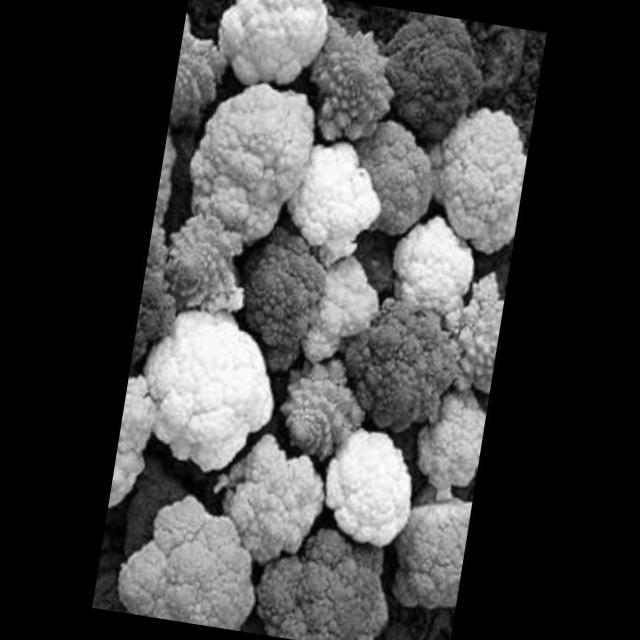sup lo: (126, 292, 295, 489), (174, 70, 324, 264), (109, 478, 275, 633), (198, 427, 340, 575), (254, 513, 417, 640), (340, 294, 474, 444), (412, 100, 534, 251), (374, 10, 498, 152), (297, 6, 415, 153), (347, 114, 462, 252), (278, 133, 392, 267), (320, 417, 432, 548), (259, 354, 378, 476), (205, 0, 343, 100), (378, 485, 474, 626), (162, 210, 274, 330), (428, 248, 512, 403), (389, 206, 494, 326), (289, 255, 391, 374), (110, 365, 182, 516), (403, 381, 491, 498), (168, 2, 235, 142), (133, 223, 197, 366)
